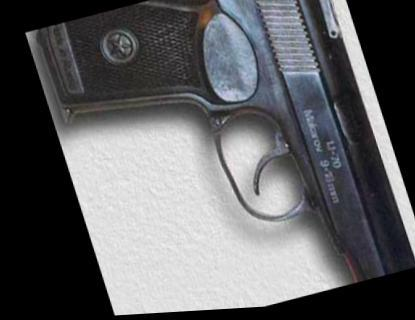pistol: (33, 0, 413, 316)
